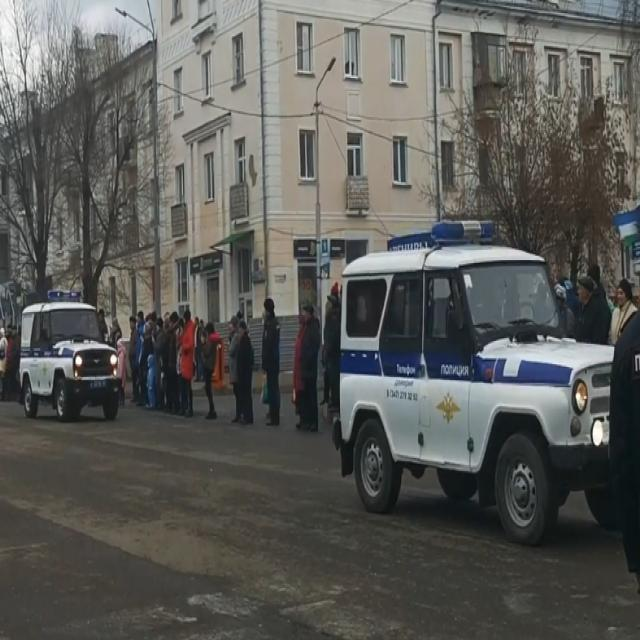police car: (344, 224, 617, 548), (21, 292, 122, 422)
